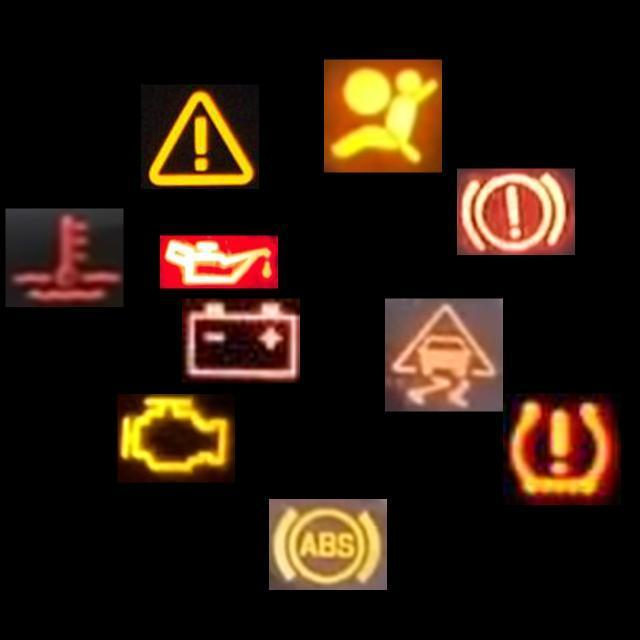Central Warning lamp: (141, 85, 259, 189)
Engine cooling system: (5, 208, 124, 308)
